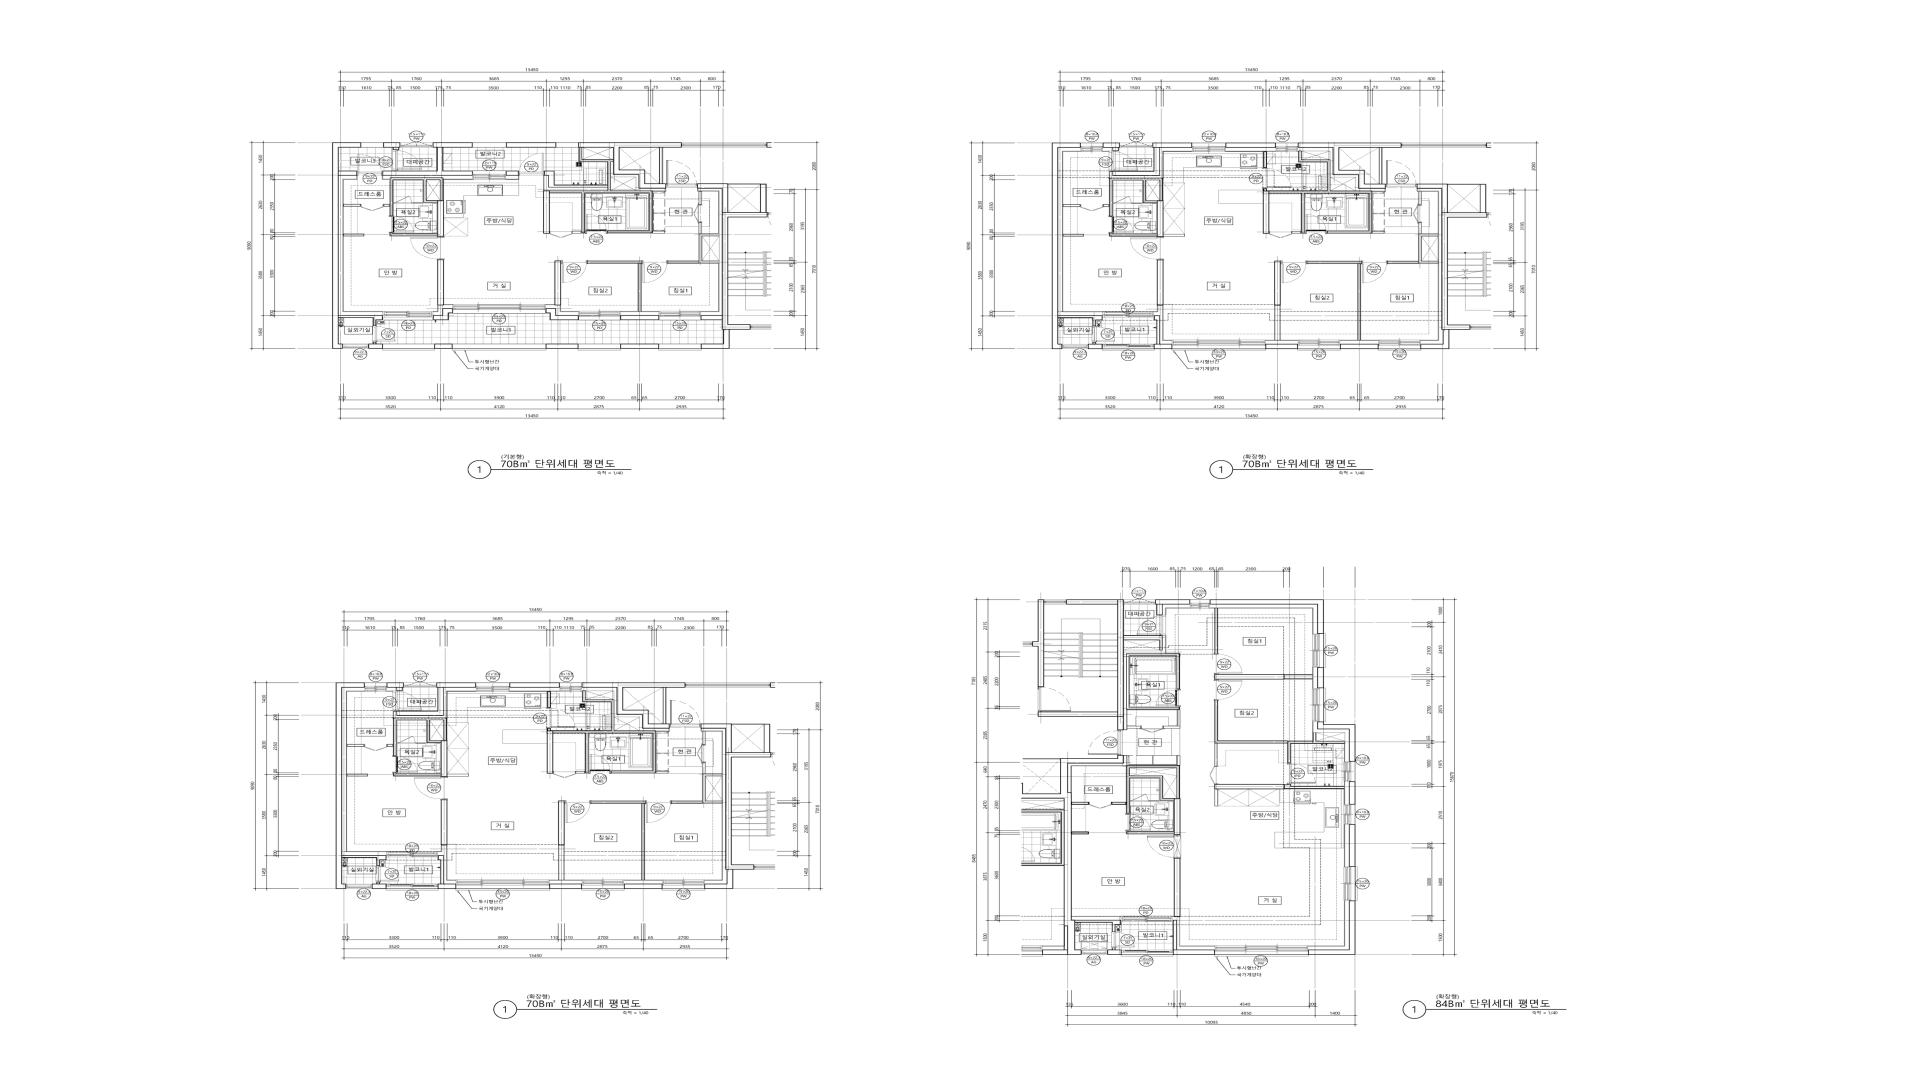door: (666, 160, 698, 187), (669, 700, 700, 727), (1088, 731, 1121, 756), (1038, 687, 1071, 712), (410, 236, 444, 260), (1386, 161, 1418, 186), (1147, 835, 1180, 858), (393, 150, 422, 171), (1137, 615, 1166, 636), (518, 153, 545, 175), (1280, 261, 1307, 284), (645, 800, 671, 823), (564, 800, 591, 823), (1263, 167, 1291, 189), (1288, 764, 1316, 785), (1215, 679, 1242, 700), (1109, 152, 1138, 171), (642, 261, 667, 284), (1362, 261, 1387, 284), (560, 261, 587, 282), (1215, 654, 1242, 674), (393, 691, 421, 711), (547, 708, 575, 728), (357, 154, 382, 175), (1126, 814, 1151, 832), (585, 214, 608, 233), (1304, 215, 1327, 233), (588, 754, 611, 773), (390, 216, 414, 233), (1109, 216, 1133, 233), (1156, 690, 1180, 707), (393, 756, 417, 773), (373, 326, 396, 342), (1093, 326, 1116, 342), (1112, 932, 1134, 948), (377, 866, 398, 882), (1270, 231, 1292, 239), (1080, 204, 1104, 211), (553, 771, 576, 778), (360, 204, 384, 211), (1089, 802, 1112, 808), (1141, 727, 1163, 733), (550, 231, 572, 237), (1414, 204, 1422, 223), (1209, 766, 1217, 785), (1130, 794, 1149, 802), (397, 736, 415, 744), (694, 204, 702, 223), (698, 745, 705, 762), (393, 196, 411, 203), (1113, 196, 1131, 203), (364, 745, 386, 750)
wall: (1038, 600, 1163, 731), (1060, 756, 1124, 955), (543, 142, 682, 233), (1416, 183, 1487, 349), (700, 724, 771, 889), (698, 183, 767, 349), (335, 683, 386, 889), (332, 142, 382, 349), (1052, 142, 1102, 349), (547, 691, 657, 774), (1263, 150, 1373, 233), (1215, 700, 1345, 764), (342, 687, 386, 856), (1058, 148, 1102, 315), (339, 175, 382, 315), (582, 683, 686, 729), (1298, 142, 1402, 189), (1112, 766, 1180, 835), (1307, 261, 1362, 340), (591, 800, 645, 880), (1124, 636, 1166, 731), (1209, 600, 1324, 634), (1418, 189, 1443, 344), (702, 729, 727, 884), (582, 687, 670, 731), (1298, 148, 1386, 191), (1211, 604, 1317, 634), (393, 717, 447, 777), (390, 178, 444, 236), (1109, 178, 1163, 236), (698, 189, 721, 315), (1126, 654, 1180, 709), (382, 142, 472, 175), (587, 261, 642, 311), (397, 683, 476, 716), (1113, 142, 1192, 175), (1308, 901, 1356, 955), (393, 687, 476, 717), (1109, 148, 1192, 178), (1068, 756, 1127, 793), (1308, 901, 1349, 949), (611, 162, 666, 191), (1317, 721, 1356, 762), (1312, 721, 1349, 762), (1172, 920, 1215, 955), (1172, 916, 1215, 949), (550, 845, 582, 884), (1266, 306, 1298, 344), (1033, 600, 1044, 687), (543, 175, 608, 191), (1154, 306, 1172, 344), (1215, 785, 1345, 790), (438, 845, 455, 884), (1154, 315, 1172, 349), (438, 856, 455, 889), (1155, 600, 1191, 615), (1215, 674, 1312, 679), (702, 236, 719, 261), (1422, 236, 1439, 261), (705, 777, 723, 800), (546, 309, 579, 320), (1174, 858, 1180, 918), (382, 175, 472, 179), (546, 305, 579, 315), (1163, 709, 1180, 729), (438, 260, 444, 306), (440, 799, 447, 845), (1156, 260, 1163, 306), (554, 261, 560, 306), (558, 800, 564, 845), (430, 720, 443, 742), (1146, 181, 1159, 203), (1274, 261, 1280, 306), (1163, 604, 1191, 615), (426, 181, 440, 200), (1349, 824, 1356, 866), (1225, 142, 1276, 148), (506, 142, 556, 148), (433, 309, 452, 320), (1344, 824, 1349, 866), (620, 315, 659, 320), (433, 305, 452, 315), (1225, 148, 1276, 152), (1340, 344, 1378, 349), (624, 884, 662, 889), (509, 687, 559, 691), (509, 683, 559, 687), (621, 344, 658, 349), (1072, 916, 1121, 920), (1215, 608, 1218, 654), (1266, 344, 1298, 349), (550, 884, 582, 889), (546, 344, 578, 349), (1102, 142, 1120, 152), (620, 311, 659, 315), (1340, 340, 1378, 344), (624, 880, 662, 884), (1349, 782, 1356, 804), (1317, 667, 1324, 688), (384, 142, 401, 150), (386, 683, 404, 691), (671, 800, 703, 804), (1344, 782, 1349, 804), (1088, 342, 1102, 349), (368, 342, 382, 349), (1312, 667, 1317, 688), (663, 687, 666, 724), (434, 344, 452, 349), (372, 882, 386, 889), (659, 148, 662, 183), (1379, 148, 1382, 183), (1108, 948, 1121, 955), (667, 261, 699, 264), (1387, 261, 1419, 264), (1215, 790, 1218, 807), (547, 691, 551, 708), (1263, 152, 1267, 167), (1215, 744, 1217, 766), (447, 774, 468, 777), (505, 171, 518, 175), (505, 175, 518, 179), (728, 183, 761, 185), (386, 687, 397, 691), (732, 724, 764, 725), (1448, 183, 1480, 185), (1102, 148, 1113, 152), (653, 231, 665, 233), (1373, 231, 1385, 233), (1163, 235, 1185, 236), (1178, 756, 1180, 766), (572, 231, 582, 233), (1292, 231, 1302, 233), (386, 744, 393, 746), (384, 204, 390, 207), (657, 771, 669, 773), (1104, 204, 1109, 207), (1149, 800, 1159, 802), (415, 742, 426, 744), (576, 771, 585, 773), (1131, 203, 1142, 203), (411, 203, 422, 203)
window: (455, 880, 550, 890), (1172, 340, 1266, 351), (1215, 945, 1308, 956), (452, 305, 546, 314), (452, 344, 546, 351), (382, 311, 433, 320), (1378, 340, 1422, 351), (1344, 866, 1357, 901), (1298, 340, 1340, 351), (582, 880, 624, 890), (662, 880, 704, 890), (1312, 634, 1325, 667), (1312, 688, 1325, 721), (579, 311, 620, 320), (659, 311, 700, 320), (382, 344, 435, 351), (1102, 344, 1154, 351), (1102, 311, 1154, 318), (1192, 142, 1225, 152), (658, 344, 702, 351), (578, 344, 621, 351), (1121, 951, 1174, 956), (386, 885, 438, 890), (386, 852, 438, 857), (1121, 916, 1172, 922), (472, 171, 506, 179), (476, 683, 509, 691), (1344, 762, 1356, 782), (1344, 804, 1356, 824), (1120, 141, 1153, 148), (400, 141, 433, 148), (1080, 142, 1102, 152), (1276, 142, 1298, 152), (472, 142, 506, 148), (364, 683, 386, 691), (559, 683, 582, 691), (404, 682, 436, 687), (1124, 599, 1155, 604), (1191, 600, 1211, 608), (1062, 344, 1088, 349), (343, 344, 368, 349), (556, 142, 579, 148), (361, 142, 384, 148), (345, 885, 372, 889), (1081, 951, 1108, 955), (1044, 600, 1067, 604)
